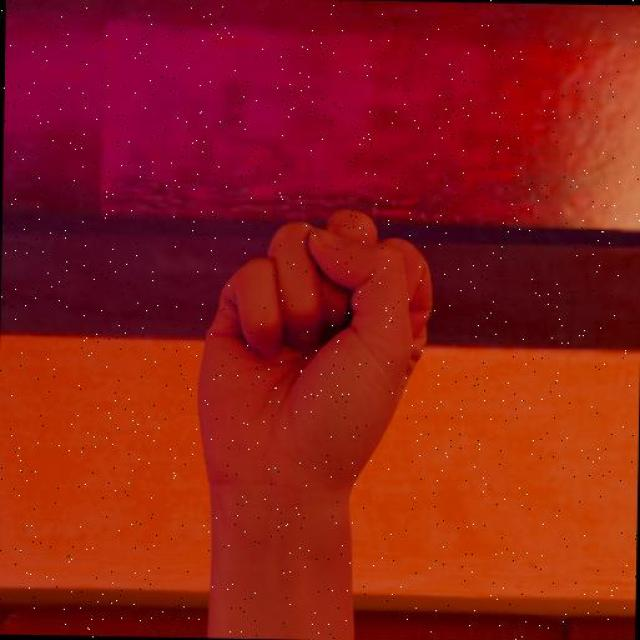S: (192, 203, 439, 498)
